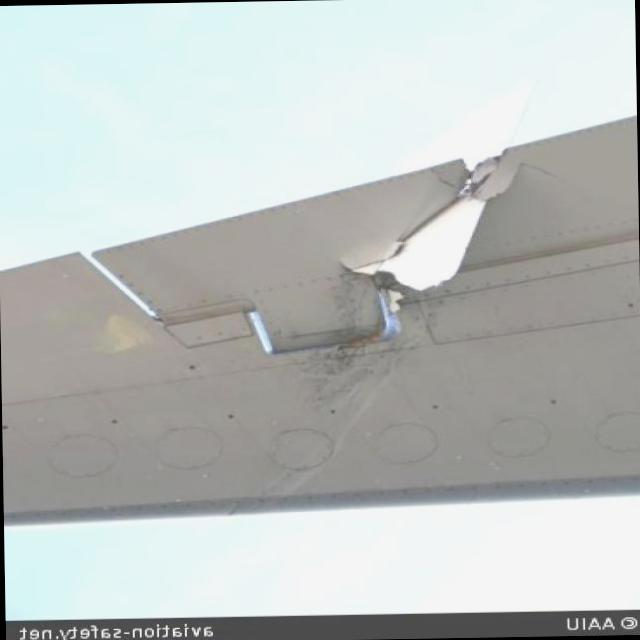crack: (328, 162, 568, 290)
